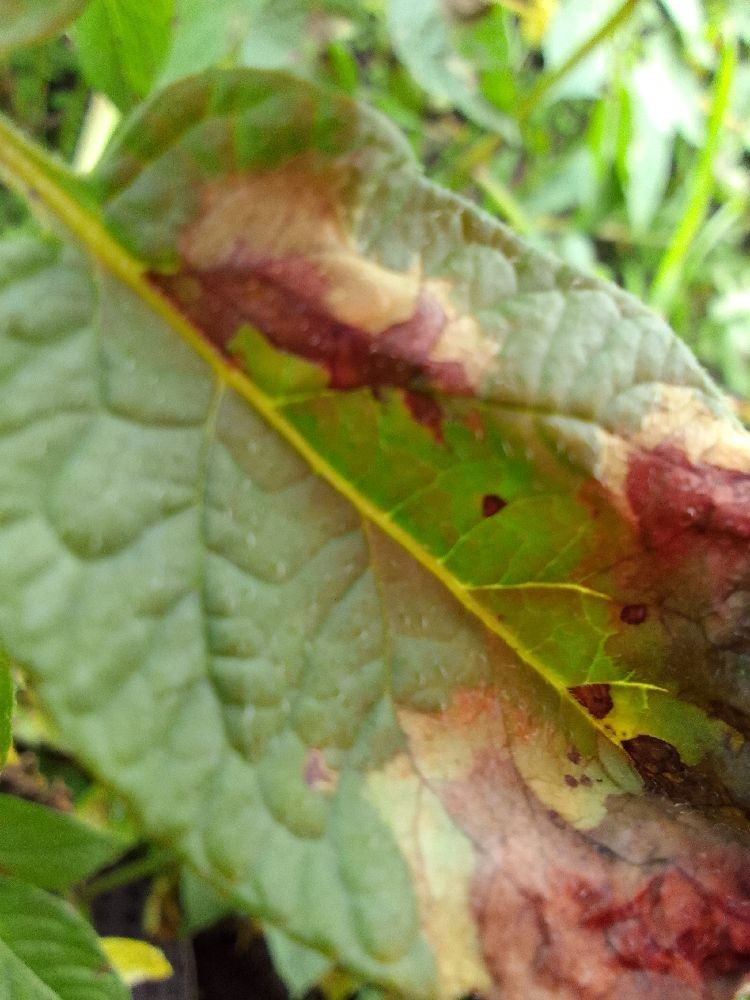late_blight: (0, 78, 749, 999)
